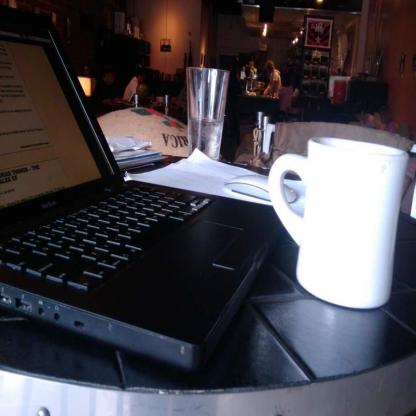board: (0, 32, 279, 384)
